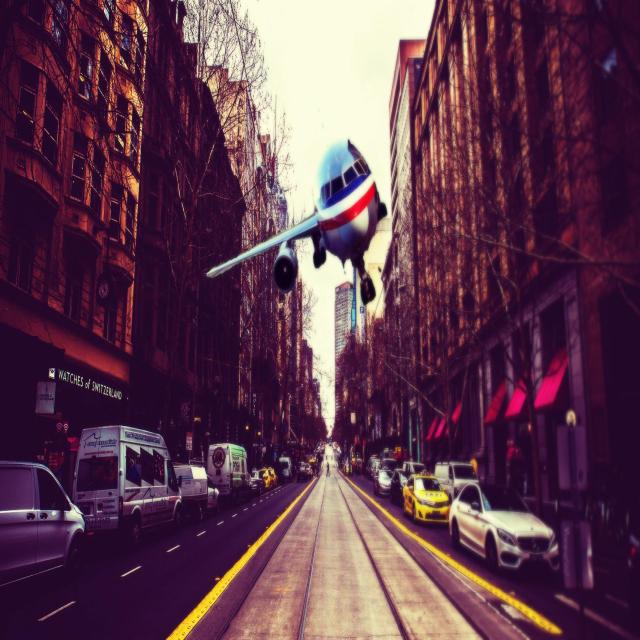airplane: (205, 137, 388, 304)
